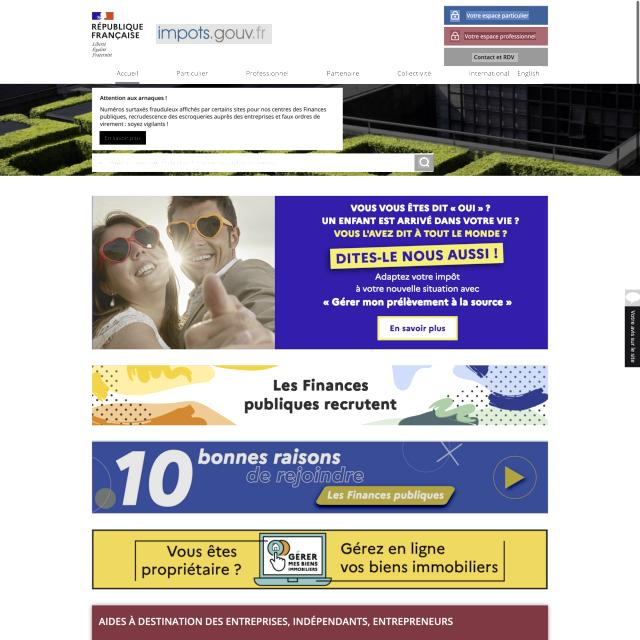CheckBox: (444, 5, 548, 25), (444, 26, 548, 46), (444, 48, 548, 66), (99, 131, 146, 145), (414, 153, 434, 172)
CheckedTextView: (92, 153, 433, 172)
bag: (0, 0, 637, 84)
card: (92, 194, 549, 350)
carousel: (418, 157, 431, 168), (450, 10, 460, 22), (450, 30, 460, 42)
copy: (92, 440, 548, 514), (92, 529, 547, 590), (91, 366, 548, 426)
data feed: (464, 32, 536, 40), (466, 11, 529, 20), (472, 53, 518, 62), (103, 133, 143, 143)
date picker: (156, 24, 272, 44)
decoration: (112, 66, 543, 84)
footer: (96, 158, 282, 168)
